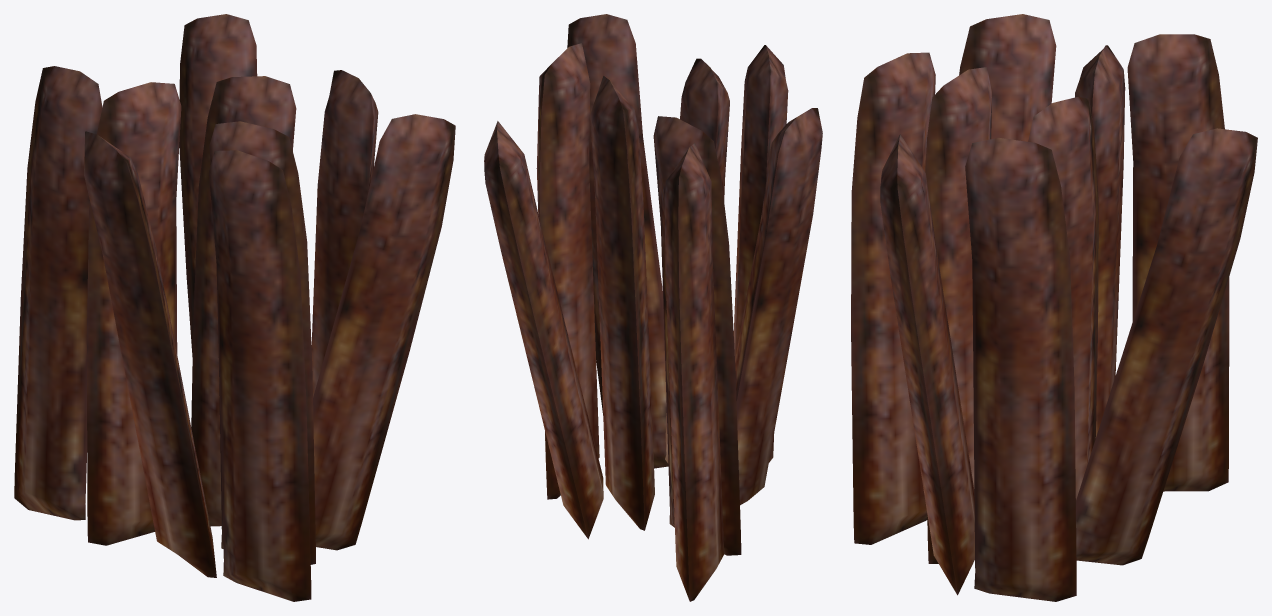
The model's file is dagasi01b.fbx.
3 views of the same model, side by side, from view 1: azimuth 30°, elevation 25°; view 2: azimuth 150°, elevation 25°; view 3: azimuth 270°, elevation 25° (orthographic). The views are drawn at different scales.
Visible parts, largest first — view 1: dagasi01b; view 2: dagasi01b; view 3: dagasi01b.
Part boxes in pixels (x1,y1,x2,y2): dagasi01b: (14,14,455,601); dagasi01b: (484,14,822,601); dagasi01b: (851,14,1257,601).
Size of the model in its own units: 18.14 by 25.04 by 19.58.
